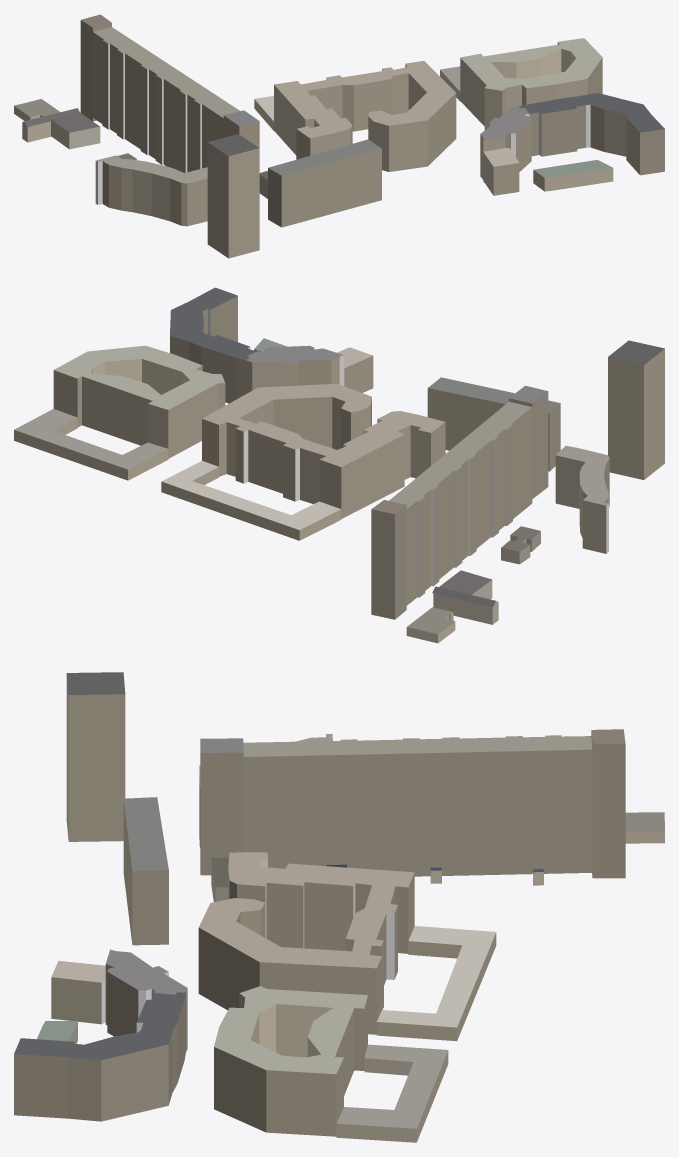
3 views of the same model, one above another, from view 1: azimuth 30°, elevation 25°; view 2: azimuth 150°, elevation 25°; view 3: azimuth 270°, elevation 25° (orthographic). The views are drawn at different scales.
Visible parts, largest first — view 1: tuile; view 2: tuile; view 3: tuile.
Boxes of the visible parts, x1,y1,x2,y2 form: tuile: [14, 14, 664, 258]; tuile: [14, 287, 664, 643]; tuile: [14, 672, 664, 1142].
Bounding box in the file's own units: 282 × 59.85 × 223.
